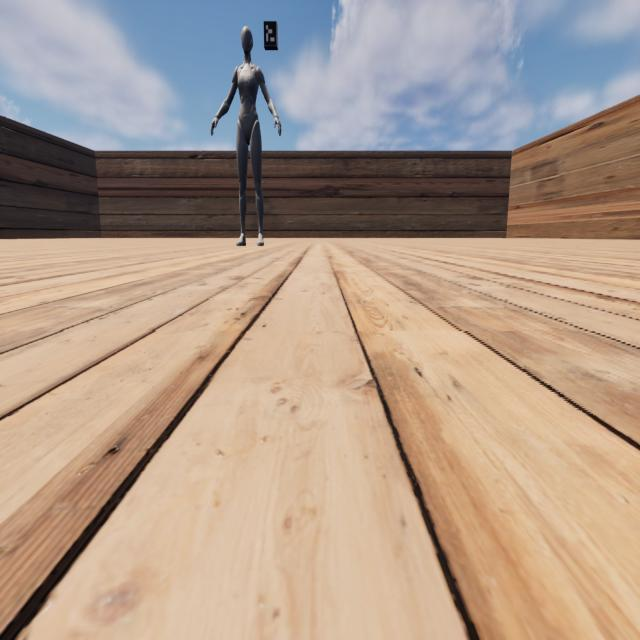aruco: (263, 20, 277, 47)
hip: (237, 120, 260, 128)
